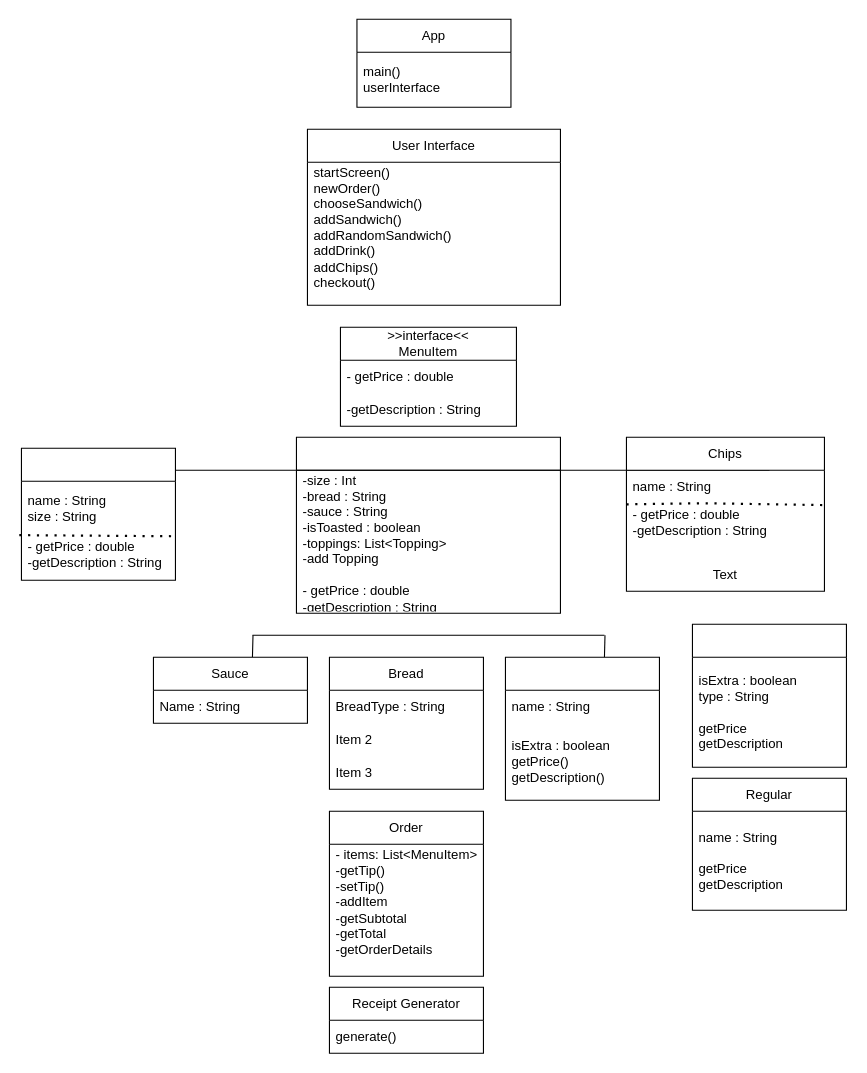
Some shapes in this 867 by 1073 pixel diagram are drawn without their labels. Here are the shapes that lost their labels. From the top down, the box of each, then its label:
(20, 447, 175, 580): Drink
(295, 436, 560, 613): Sandwich
(691, 623, 846, 767): Premium
(504, 656, 659, 800): Toppings
